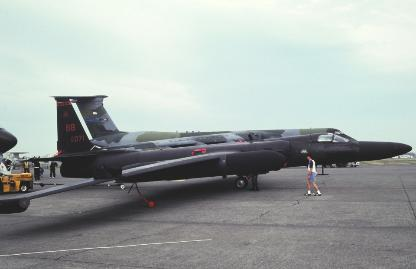C17: (48, 94, 358, 167)
C5: (3, 150, 48, 168)
Tu160: (0, 96, 412, 213)
